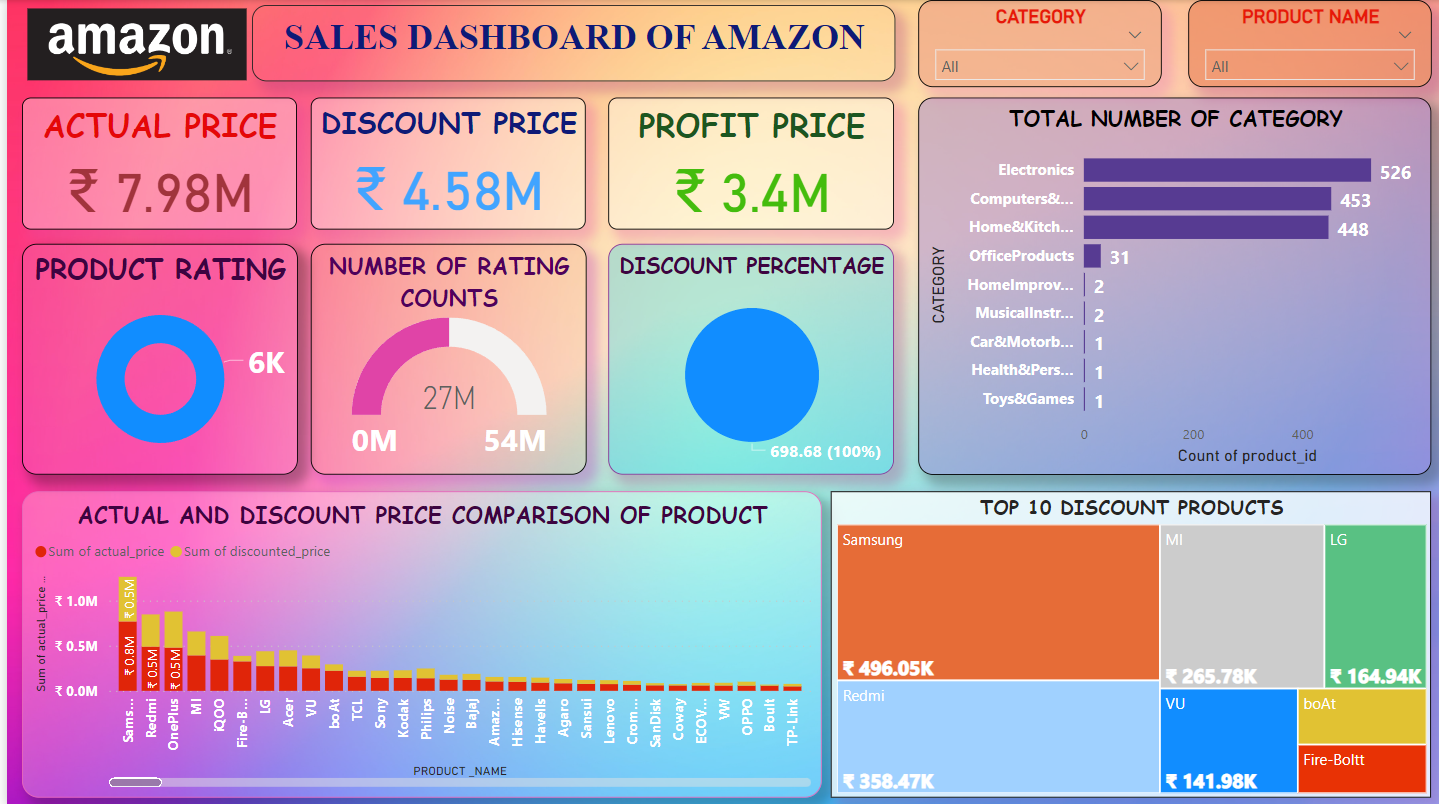

What the dashboard file says about the page in this screenshot:
{"tool":"powerbi","page":{"name":"Page 1","canvas":[1280,720],"ordinal":0},"visuals":[{"type":"card","title":"ACTUAL PRICE","fields":{"Values":["Sum(amazon.actual_price)"]},"box":[12.8,87.2,244.9,117.9],"z":0},{"type":"donutChart","title":"PRODUCT RATING","fields":{"Y":["Sum(amazon.rating)"]},"box":[13.1,216.7,245.2,206],"z":1000},{"type":"pieChart","title":"DISCOUNT PERCENTAGE","fields":{"Y":["Sum(amazon.discount_percentage)"]},"box":[535.7,216.7,254.8,206],"z":2000},{"type":"columnChart","title":"ACTUAL AND DISCOUNT PRICE COMPARISON OF PRODUCT","fields":{"Category":["amazon.PRODUCT _NAME"],"Y":["Sum(amazon.actual_price)","Sum(amazon.discounted_price)"]},"box":[13.1,436.9,711.9,272.6],"z":3000},{"type":"clusteredBarChart","title":"TOTAL NUMBER OF CATEGORY","fields":{"Category":["amazon.CATEGORY"],"Y":["CountNonNull(amazon.product_id)"]},"box":[810.7,86.9,457.1,335.7],"z":4000},{"type":"treemap","title":"TOP 10 DISCOUNT PRODUCTS","fields":{"Group":["amazon.PRODUCT _NAME"],"Values":["Sum(amazon.discounted_price)"]},"box":[733.3,436.9,534.5,272.6],"z":5000},{"type":"card","title":"DISCOUNT PRICE","fields":{"Values":["Sum(amazon.discounted_price)"]},"box":[270.5,87.2,244.9,117.9],"z":6000},{"type":"card","title":"PROFIT PRICE","fields":{"Values":["amazon.PROFITT"]},"box":[535.7,86.9,254.8,117.9],"z":7000},{"type":"gauge","title":"NUMBER OF  RATING COUNTS","fields":{"Y":["Sum(amazon.rating_count)"]},"box":[270.2,216.7,245.2,206],"z":8000},{"type":"slicer","title":"CATEGORY","fields":{"Values":["amazon.CATEGORY"]},"box":[810.7,0,216.7,77.4],"z":9000},{"type":"slicer","title":"PRODUCT NAME","fields":{"Values":["amazon.PRODUCT _NAME"]},"box":[1051.2,0,216.7,77.4],"z":10000},{"type":"image","box":[13.1,1.2,204.8,77.4],"z":11000},{"type":"textbox","box":[217.9,4.8,572.6,67.9],"z":12000}]}

Visuals, with their boxes in screenshot pixels (x1, y1, x2, y2), scaled from the page's 1280x720 canvas onto the 1439x804 screenshot:
"ACTUAL PRICE" card: [left=14, top=97, right=290, bottom=229]
"PRODUCT RATING" donutChart: [left=15, top=242, right=290, bottom=472]
"DISCOUNT PERCENTAGE" pieChart: [left=602, top=242, right=889, bottom=472]
"ACTUAL AND DISCOUNT PRICE COMPARISON OF PRODUCT" columnChart: [left=15, top=488, right=815, bottom=792]
"TOTAL NUMBER OF CATEGORY" clusteredBarChart: [left=911, top=97, right=1425, bottom=472]
"TOP 10 DISCOUNT PRODUCTS" treemap: [left=824, top=488, right=1425, bottom=792]
"DISCOUNT PRICE" card: [left=304, top=97, right=579, bottom=229]
"PROFIT PRICE" card: [left=602, top=97, right=889, bottom=229]
"NUMBER OF  RATING COUNTS" gauge: [left=304, top=242, right=579, bottom=472]
"CATEGORY" slicer: [left=911, top=0, right=1155, bottom=86]
"PRODUCT NAME" slicer: [left=1182, top=0, right=1425, bottom=86]
image: [left=15, top=1, right=245, bottom=88]
textbox: [left=245, top=5, right=889, bottom=81]
